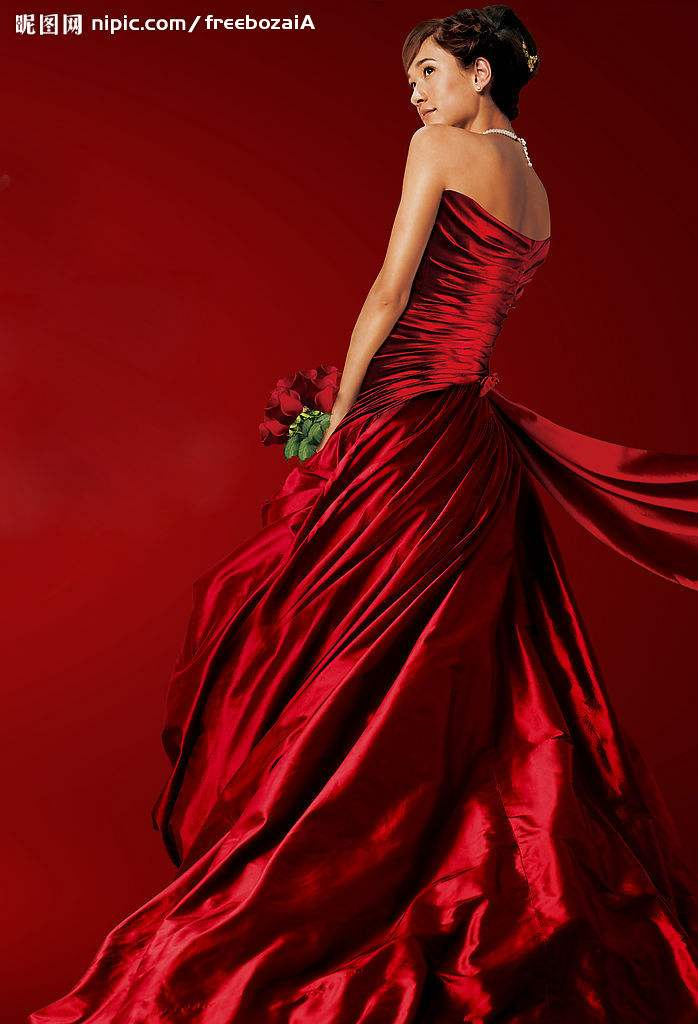person: (257, 8, 670, 864)
